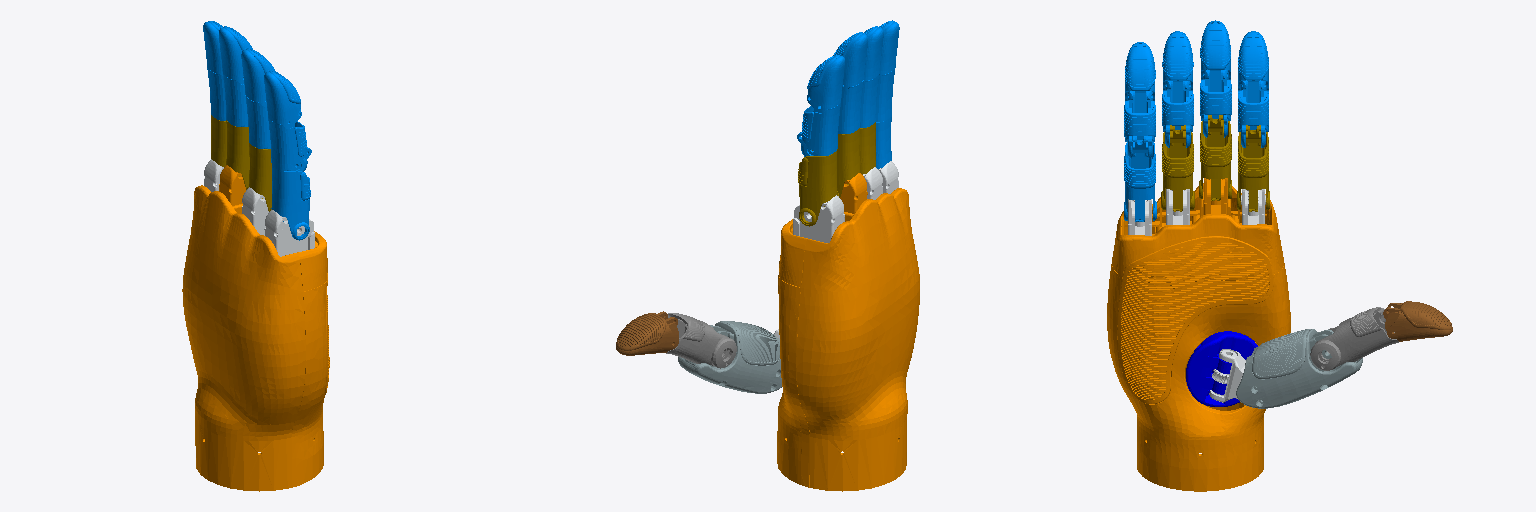
--- Render facts (derived) ---
3 views of the same robot in one strip: view 1: azimuth 30°, elevation 25°; view 2: azimuth 150°, elevation 25°; view 3: azimuth 270°, elevation 25° (orthographic).
Model linkerhand_l10_7_right.urdf with 21 links and 20 joints (20 revolute), rooted at hand_base_link, posed every joint at zero.
Visible links, largest first — view 1: hand_base_link, pinky_proximal, pinky_middle, pinky_distal, pinky_metacarpals, ring_distal, middle_distal, ring_proximal, middle_proximal, middle_middle, ring_middle, ring_metacarpals (+3 smaller); view 2: hand_base_link, thumb_metacarpals, thumb_proximal, thumb_distal, index_proximal, index_middle, index_distal, index_metacarpals, middle_distal, middle_proximal, middle_middle, pinky_distal (+5 smaller); view 3: hand_base_link, thumb_metacarpals, thumb_proximal, thumb_metacarpals_base1, thumb_distal, ring_proximal, pinky_proximal, middle_proximal, index_proximal, pinky_middle, middle_middle, index_middle (+9 smaller).
Boxes of the visible links, left/top/right/bottom form: hand_base_link: left=182, top=165, right=329, bottom=491; pinky_proximal: left=271, top=164, right=310, bottom=240; pinky_middle: left=268, top=118, right=311, bottom=171; pinky_distal: left=264, top=71, right=301, bottom=128; pinky_metacarpals: left=264, top=210, right=314, bottom=256; ring_distal: left=241, top=48, right=275, bottom=106; middle_distal: left=219, top=26, right=252, bottom=84; ring_proximal: left=249, top=143, right=271, bottom=211; middle_proximal: left=226, top=120, right=249, bottom=189; middle_middle: left=223, top=74, right=247, bottom=126; ring_middle: left=245, top=95, right=270, bottom=148; ring_metacarpals: left=242, top=187, right=268, bottom=235; hand_base_link: left=777, top=173, right=919, bottom=491; thumb_metacarpals: left=678, top=321, right=781, bottom=393; thumb_proximal: left=666, top=313, right=736, bottom=368; thumb_distal: left=616, top=311, right=678, bottom=355; index_proximal: left=798, top=149, right=837, bottom=226; index_middle: left=797, top=103, right=840, bottom=156; index_distal: left=807, top=55, right=844, bottom=112; index_metacarpals: left=793, top=195, right=844, bottom=242; middle_distal: left=833, top=32, right=867, bottom=90; middle_proximal: left=837, top=128, right=860, bottom=197; middle_middle: left=838, top=80, right=863, bottom=133; pinky_distal: left=879, top=20, right=899, bottom=76; hand_base_link: left=1107, top=178, right=1290, bottom=491; thumb_metacarpals: left=1236, top=329, right=1362, bottom=408; thumb_proximal: left=1310, top=307, right=1398, bottom=370; thumb_metacarpals_base1: left=1186, top=331, right=1257, bottom=406; thumb_distal: left=1383, top=301, right=1452, bottom=341; ring_proximal: left=1161, top=125, right=1194, bottom=211; pinky_proximal: left=1124, top=136, right=1156, bottom=221; middle_proximal: left=1199, top=115, right=1231, bottom=200; index_proximal: left=1237, top=125, right=1269, bottom=211; pinky_middle: left=1124, top=91, right=1155, bottom=158; middle_middle: left=1200, top=70, right=1231, bottom=137; index_middle: left=1238, top=80, right=1268, bottom=147.
Bounding box of the posed robot: 0.0906 × 0.1742 × 0.2403 m (x, y, z).
Meshes: 21 distinct files referenced, 21 mesh visuals loaded (21 binary STL).

The robot description file, URDF, robot "linkerhand_l10_7_right.urdf":
<?xml version="1.0" encoding="utf-8"?>
<!-- This URDF was automatically created by SolidWorks to URDF Exporter! Originally created by Stephen Brawner ([email redacted]) 
     Commit Version: 1.6.0-4-g7f85cfe  Build Version: 1.6.7995.38578
     For more information, please see http://wiki.ros.org/sw_urdf_exporter -->
<robot
  name="linkerhand_l10_7_right.urdf">
  <link
    name="hand_base_link">
    <inertial>
      <origin
        xyz="-0.00378572993474923 -0.000415839048931058 0.0836392883613671"
        rpy="0 0 0" />
      <mass
        value="0.10884427610512" />
      <inertia
        ixx="0.00019345483956042"
        ixy="1.28842682703635E-06"
        ixz="1.97005632028112E-07"
        iyy="0.000129793182936336"
        iyz="-2.34961034039841E-06"
        izz="7.75126657491835E-05" />
    </inertial>
    <visual>
      <origin
        xyz="0 0 0"
        rpy="0 0 0" />
      <geometry>
        <mesh
          filename="meshes/hand_base_link.STL" />
      </geometry>
      <material
        name="">
        <color
          rgba="1 0.6 0 1" />
      </material>
    </visual>
    <collision>
      <origin
        xyz="0 0 0"
        rpy="0 0 0" />
      <geometry>
        <mesh
          filename="meshes/hand_base_link.STL" />
      </geometry>
    </collision>
  </link>
  <link
    name="thumb_metacarpals_base1">
    <inertial>
      <origin
        xyz="0.0284774593036823 -0.00319295610820959 0.000288698025133524"
        rpy="0 0 0" />
      <mass
        value="0.0084581719416891" />
      <inertia
        ixx="1.40261950876138E-06"
        ixy="1.18207329998214E-07"
        ixz="-1.77710409325651E-08"
        iyy="9.82563824235415E-07"
        iyz="-6.88503841796069E-08"
        izz="7.36195207923163E-07" />
    </inertial>
    <visual>
      <origin
        xyz="0 0 0"
        rpy="0 0 0" />
      <geometry>
        <mesh
          filename="meshes/thumb_metacarpals_base1.STL" />
      </geometry>
      <material
        name="">
        <color
          rgba="0 0 1 1" />
      </material>
    </visual>
    <collision>
      <origin
        xyz="0 0 0"
        rpy="0 0 0" />
      <geometry>
        <mesh
          filename="meshes/thumb_metacarpals_base1.STL" />
      </geometry>
    </collision>
  </link>
  <joint
    name="thumb_cmc_roll"
    type="revolute">
    <origin
      xyz="-0.013419 0.012551 0.060602"
      rpy="0 0 0" />
    <parent
      link="hand_base_link" />
    <child
      link="thumb_metacarpals_base1" />
    <axis
      xyz="0.99996 0 -0.0087265" />
    <limit
      lower="0"
      upper="1.1339"
      effort="100"
      velocity="1" />
  </joint>
  <link
    name="thumb_metacarpals_base2">
    <inertial>
      <origin
        xyz="0.00215248483593253 0.00687960824638228 -0.00178648738539141"
        rpy="0 0 0" />
      <mass
        value="0.00582710536801184" />
      <inertia
        ixx="3.1580508435925E-07"
        ixy="-1.2523312776122E-08"
        ixz="7.34627751822501E-09"
        iyy="2.74551538715439E-07"
        iyz="-1.11420623852877E-08"
        izz="1.7708647486189E-07" />
    </inertial>
    <visual>
      <origin
        xyz="0 0 0"
        rpy="0 0 0" />
      <geometry>
        <mesh
          filename="meshes/thumb_metacarpals_base2.STL" />
      </geometry>
      <material
        name="">
        <color
          rgba="0.898039215686275 0.917647058823529 0.929411764705882 1" />
      </material>
    </visual>
    <collision>
      <origin
        xyz="0 0 0"
        rpy="0 0 0" />
      <geometry>
        <mesh
          filename="meshes/thumb_metacarpals_base2.STL" />
      </geometry>
    </collision>
  </link>
  <joint
    name="thumb_cmc_yaw"
    type="revolute">
    <origin
      xyz="0.035797 -0.00065879 0.00045944"
      rpy="0 0 0" />
    <parent
      link="thumb_metacarpals_base1" />
    <child
      link="thumb_metacarpals_base2" />
    <axis
      xyz="0.008517 -0.21782 -0.97595" />
    <limit
      lower="0"
      upper="1.9189"
      effort="100"
      velocity="0" />
  </joint>
  <link
    name="thumb_metacarpals">
    <inertial>
      <origin
        xyz="0.00183661834550107 -2.80742940476572E-06 0.0269905020099197"
        rpy="0 0 0" />
      <mass
        value="0.0152011697874328" />
      <inertia
        ixx="2.95370119498705E-06"
        ixy="5.98576599418973E-11"
        ixz="1.58078022444628E-07"
        iyy="3.84770651487058E-06"
        iyz="4.18316149481869E-10"
        izz="1.32007495243356E-06" />
    </inertial>
    <visual>
      <origin
        xyz="0 0 0"
        rpy="0 0 0" />
      <geometry>
        <mesh
          filename="meshes/thumb_metacarpals.STL" />
      </geometry>
      <material
        name="">
        <color
          rgba="0.592156862745098 0.666666666666667 0.682352941176471 1" />
      </material>
    </visual>
    <collision>
      <origin
        xyz="0 0 0"
        rpy="0 0 0" />
      <geometry>
        <mesh
          filename="meshes/thumb_metacarpals.STL" />
      </geometry>
    </collision>
  </link>
  <joint
    name="thumb_cmc_pitch"
    type="revolute">
    <origin
      xyz="0.0046051 0.014383 -0.0051478"
      rpy="0.16356 -1.1191 -2.0038" />
    <parent
      link="thumb_metacarpals_base2" />
    <child
      link="thumb_metacarpals" />
    <axis
      xyz="0 1 0" />
    <limit
      lower="0"
      upper="0.5146"
      effort="100"
      velocity="1" />
  </joint>
  <link
    name="thumb_proximal">
    <inertial>
      <origin
        xyz="0.00159270226880857 -4.4335770623613E-06 0.0151573535592338"
        rpy="0 0 0" />
      <mass
        value="0.00662230120907192" />
      <inertia
        ixx="1.01526965693255E-06"
        ixy="-3.40889077339227E-12"
        ixz="4.4224333375416E-08"
        iyy="9.10433196570128E-07"
        iyz="2.59867251981586E-11"
        izz="4.4746314468008E-07" />
    </inertial>
    <visual>
      <origin
        xyz="0 0 0"
        rpy="0 0 0" />
      <geometry>
        <mesh
          filename="meshes/thumb_proximal.STL" />
      </geometry>
      <material
        name="">
        <color
          rgba="0.6 0.6 0.6 1" />
      </material>
    </visual>
    <collision>
      <origin
        xyz="0 0 0"
        rpy="0 0 0" />
      <geometry>
        <mesh
          filename="meshes/thumb_proximal.STL" />
      </geometry>
    </collision>
  </link>
  <joint
    name="thumb_mcp"
    type="revolute">
    <origin
      xyz="0.0061722 0 0.047968"
      rpy="0 0 0" />
    <parent
      link="thumb_metacarpals" />
    <child
      link="thumb_proximal" />
    <axis
      xyz="0 1 0" />
    <limit
      lower="0"
      upper="0.7152"
      effort="100"
      velocity="1" />
    <mimic
      joint="thumb_cmc_pitch"
      multiplier="1.3898"
      offset="0" />
  </joint>
  <link
    name="thumb_distal">
    <inertial>
      <origin
        xyz="-0.00138919652929166 1.66654390589688E-06 0.0115790399688877"
        rpy="0 0 0" />
      <mass
        value="0.00512933613321634" />
      <inertia
        ixx="3.30969722600772E-07"
        ixy="-3.44780214263253E-10"
        ixz="1.04733139974397E-07"
        iyy="3.23809589950991E-07"
        iyz="-8.21573772773073E-11"
        izz="2.489052525811E-07" />
    </inertial>
    <visual>
      <origin
        xyz="0 0 0"
        rpy="0 0 0" />
      <geometry>
        <mesh
          filename="meshes/thumb_distal.STL" />
      </geometry>
      <material
        name="">
        <color
          rgba="0.6 0.4 0.2 1" />
      </material>
    </visual>
    <collision>
      <origin
        xyz="0 0 0"
        rpy="0 0 0" />
      <geometry>
        <mesh
          filename="meshes/thumb_distal.STL" />
      </geometry>
    </collision>
  </link>
  <joint
    name="thumb_ip"
    type="revolute">
    <origin
      xyz="-0.00017064 0 0.038665"
      rpy="0 0 0" />
    <parent
      link="thumb_proximal" />
    <child
      link="thumb_distal" />
    <axis
      xyz="0 1 0" />
    <limit
      lower="0"
      upper="0.7763"
      effort="100"
      velocity="1" />
    <mimic
      joint="thumb_cmc_pitch"
      multiplier="1.508"
      offset="0" />
  </joint>
  <link
    name="index_metacarpals">
    <inertial>
      <origin
        xyz="-0.000473392019250098 -6.96702861594997E-07 0.00909067743061448"
        rpy="0 0 0" />
      <mass
        value="0.00903700347459462" />
      <inertia
        ixx="4.90035722472611E-07"
        ixy="3.89143802263231E-11"
        ixz="-2.78580197566548E-08"
        iyy="7.37380420538667E-07"
        iyz="6.37050140815271E-11"
        izz="5.52381285093451E-07" />
    </inertial>
    <visual>
      <origin
        xyz="0 0 0"
        rpy="0 0 0" />
      <geometry>
        <mesh
          filename="meshes/index_metacarpals.STL" />
      </geometry>
      <material
        name="">
        <color
          rgba="0.898039215686275 0.917647058823529 0.929411764705882 1" />
      </material>
    </visual>
    <collision>
      <origin
        xyz="0 0 0"
        rpy="0 0 0" />
      <geometry>
        <mesh
          filename="meshes/index_metacarpals.STL" />
      </geometry>
    </collision>
  </link>
  <joint
    name="index_mcp_roll"
    type="revolute">
    <origin
      xyz="-0.0021643 0.026654 0.13253"
      rpy="0 0 0" />
    <parent
      link="hand_base_link" />
    <child
      link="index_metacarpals" />
    <axis
      xyz="-0.99996 0 0.0087265" />
    <limit
      lower="0"
      upper="0.2181"
      effort="100"
      velocity="1" />
  </joint>
  <link
    name="index_proximal">
    <inertial>
      <origin
        xyz="-0.000221409784741484 1.17214413283134E-06 0.0104801609243648"
        rpy="0 0 0" />
      <mass
        value="0.00654982479821771" />
      <inertia
        ixx="4.43447817415824E-07"
        ixy="-2.69774925527114E-12"
        ixz="2.71645765576885E-08"
        iyy="4.58697755319572E-07"
        iyz="-8.52649515921746E-11"
        izz="1.7465947341041E-07" />
    </inertial>
    <visual>
      <origin
        xyz="0 0 0"
        rpy="0 0 0" />
      <geometry>
        <mesh
          filename="meshes/index_proximal.STL" />
      </geometry>
      <material
        name="">
        <color
          rgba="0.647058823529412 0.517647058823529 0 1" />
      </material>
    </visual>
    <collision>
      <origin
        xyz="0 0 0"
        rpy="0 0 0" />
      <geometry>
        <mesh
          filename="meshes/index_proximal.STL" />
      </geometry>
    </collision>
  </link>
  <joint
    name="index_mcp_pitch"
    type="revolute">
    <origin
      xyz="0.0020763 0 0.015294"
      rpy="0 0 0" />
    <parent
      link="index_metacarpals" />
    <child
      link="index_proximal" />
    <axis
      xyz="0 1 0" />
    <limit
      lower="0"
      upper="1.3607"
      effort="100"
      velocity="1" />
  </joint>
  <link
    name="index_middle">
    <inertial>
      <origin
        xyz="-0.00259932519148708 -2.09526073980532E-06 0.0110174765184068"
        rpy="0 0 0" />
      <mass
        value="0.00283043635595588" />
      <inertia
        ixx="2.60328472325947E-07"
        ixy="5.7907596345584E-11"
        ixz="4.11787064047029E-08"
        iyy="2.33077669786127E-07"
        iyz="-2.91977981203693E-11"
        izz="1.27252395425434E-07" />
    </inertial>
    <visual>
      <origin
        xyz="0 0 0"
        rpy="0 0 0" />
      <geometry>
        <mesh
          filename="meshes/index_middle.STL" />
      </geometry>
      <material
        name="">
        <color
          rgba="0 0.6 1 1" />
      </material>
    </visual>
    <collision>
      <origin
        xyz="0 0 0"
        rpy="0 0 0" />
      <geometry>
        <mesh
          filename="meshes/index_middle.STL" />
      </geometry>
    </collision>
  </link>
  <joint
    name="index_pip"
    type="revolute">
    <origin
      xyz="-0.0013807 0 0.035624"
      rpy="0 0 0" />
    <parent
      link="index_proximal" />
    <child
      link="index_middle" />
    <axis
      xyz="0 1 0" />
    <limit
      lower="0"
      upper="1.8317"
      effort="100"
      velocity="1" />
    <mimic
      joint="index_mcp_pitch"
      multiplier="1.3462"
      offset="0" />
  </joint>
  <link
    name="index_distal">
    <inertial>
      <origin
        xyz="-0.000710605319534495 5.23484329792434E-06 0.0121456668819466"
        rpy="0 0 0" />
      <mass
        value="0.00314458657125681" />
      <inertia
        ixx="1.63322109883219E-07"
        ixy="1.96094345230889E-11"
        ixz="4.33517104700554E-08"
        iyy="1.48366110942312E-07"
        iyz="-2.0277830463002E-10"
        izz="9.85575309385827E-08" />
    </inertial>
    <visual>
      <origin
        xyz="0 0 0"
        rpy="0 0 0" />
      <geometry>
        <mesh
          filename="meshes/index_distal.STL" />
      </geometry>
      <material
        name="">
        <color
          rgba="0 0.6 1 1" />
      </material>
    </visual>
    <collision>
      <origin
        xyz="0 0 0"
        rpy="0 0 0" />
      <geometry>
        <mesh
          filename="meshes/index_distal.STL" />
      </geometry>
    </collision>
  </link>
  <joint
    name="index_dip"
    type="revolute">
    <origin
      xyz="-0.0054686 0 0.025665"
      rpy="0 0 0" />
    <parent
      link="index_middle" />
    <child
      link="index_distal" />
    <axis
      xyz="0 1 0" />
    <limit
      lower="0"
      upper="1.8317"
      effort="100"
      velocity="1" />
    <mimic
      joint="index_mcp_pitch"
      multiplier="0.4616"
      offset="0" />
  </joint>
  <link
    name="middle_proximal">
    <inertial>
      <origin
        xyz="-0.000226219980586555 1.17216483217115E-06 0.0104800581470382"
        rpy="0 0 0" />
      <mass
        value="0.00654982478226948" />
      <inertia
        ixx="4.43422823045881E-07"
        ixy="-2.65801609336249E-12"
        ixz="2.72879331079687E-08"
        iyy="4.58697754707372E-07"
        iyz="-8.52654749041276E-11"
        izz="1.746844667607E-07" />
    </inertial>
    <visual>
      <origin
        xyz="0 0 0"
        rpy="0 0 0" />
      <geometry>
        <mesh
          filename="meshes/middle_proximal.STL" />
      </geometry>
      <material
        name="">
        <color
          rgba="0.647058823529412 0.517647058823529 0 1" />
      </material>
    </visual>
    <collision>
      <origin
        xyz="0 0 0"
        rpy="0 0 0" />
      <geometry>
        <mesh
          filename="meshes/middle_proximal.STL" />
      </geometry>
    </collision>
  </link>
  <joint
    name="middle_mcp_pitch"
    type="revolute">
    <origin
      xyz="-0.0021316 0.0076542 0.15281"
      rpy="0 0 0" />
    <parent
      link="hand_base_link" />
    <child
      link="middle_proximal" />
    <axis
      xyz="0 1 0" />
    <limit
      lower="0"
      upper="1.3607"
      effort="100"
      velocity="1" />
  </joint>
  <link
    name="middle_middle">
    <inertial>
      <origin
        xyz="-0.00261699473119732 -2.09526685195343E-06 0.0110132928110042"
        rpy="0 0 0" />
      <mass
        value="0.00283043635504843" />
      <inertia
        ixx="2.60196021834948E-07"
        ixy="5.79547865424082E-11"
        ixz="4.1391958359388E-08"
        iyy="2.33077669434872E-07"
        iyz="-2.91048412607941E-11"
        izz="1.27384845266404E-07" />
    </inertial>
    <visual>
      <origin
        xyz="0 0 0"
        rpy="0 0 0" />
      <geometry>
        <mesh
          filename="meshes/middle_middle.STL" />
      </geometry>
      <material
        name="">
        <color
          rgba="0 0.6 1 1" />
      </material>
    </visual>
    <collision>
      <origin
        xyz="0 0 0"
        rpy="0 0 0" />
      <geometry>
        <mesh
          filename="meshes/middle_middle.STL" />
      </geometry>
    </collision>
  </link>
  <joint
    name="middle_pip"
    type="revolute">
    <origin
      xyz="-0.001397 0 0.035623"
      rpy="0 0 0" />
    <parent
      link="middle_proximal" />
    <child
      link="middle_middle" />
    <axis
      xyz="0 1 0" />
    <limit
      lower="0"
      upper="1.8317"
      effort="100"
      velocity="1" />
    <mimic
      joint="middle_mcp_pitch"
      multiplier="1.3462"
      offset="0" />
  </joint>
  <link
    name="middle_distal">
    <inertial>
      <origin
        xyz="-0.000728492686368068 5.23463091207845E-06 0.0121446078355904"
        rpy="0 0 0" />
      <mass
        value="0.0031445865911477" />
      <inertia
        ixx="1.6319430020531E-07"
        ixy="1.99064061423831E-11"
        ixz="4.34469141575623E-08"
        iyy="1.48366133401933E-07"
        iyz="-2.0274172110168E-10"
        izz="9.86853634492536E-08" />
    </inertial>
    <visual>
      <origin
        xyz="0 0 0"
        rpy="0 0 0" />
      <geometry>
        <mesh
          filename="meshes/middle_distal.STL" />
      </geometry>
      <material
        name="">
        <color
          rgba="0 0.6 1 1" />
      </material>
    </visual>
    <collision>
      <origin
        xyz="0 0 0"
        rpy="0 0 0" />
      <geometry>
        <mesh
          filename="meshes/middle_distal.STL" />
      </geometry>
    </collision>
  </link>
  <joint
    name="middle_dip"
    type="revolute">
    <origin
      xyz="-0.0055098 0 0.025656"
      rpy="0 0 0" />
    <parent
      link="middle_middle" />
    <child
      link="middle_distal" />
    <axis
      xyz="0 1 0" />
    <limit
      lower="0"
      upper="0.628"
      effort="100"
      velocity="1" />
    <mimic
      joint="middle_mcp_pitch"
      multiplier="0.4616"
      offset="0" />
  </joint>
  <link
    name="ring_metacarpals">
    <inertial>
      <origin
        xyz="-0.000473392019250147 -6.96702861586324E-07 0.00909067743061451"
        rpy="0 0 0" />
      <mass
        value="0.00903700347459463" />
      <inertia
        ixx="4.90035722472612E-07"
        ixy="3.89143802227228E-11"
        ixz="-2.78580197566549E-08"
        iyy="7.37380420538669E-07"
        iyz="6.37050140810733E-11"
        izz="5.52381285093452E-07" />
    </inertial>
    <visual>
      <origin
        xyz="0 0 0"
        rpy="0 0 0" />
      <geometry>
        <mesh
          filename="meshes/ring_metacarpals.STL" />
      </geometry>
      <material
        name="">
        <color
          rgba="0.898039215686275 0.917647058823529 0.929411764705882 1" />
      </material>
    </visual>
    <collision>
      <origin
        xyz="0 0 0"
        rpy="0 0 0" />
      <geometry>
        <mesh
          filename="meshes/ring_metacarpals.STL" />
      </geometry>
    </collision>
  </link>
  <joint
    name="ring_mcp_roll"
    type="revolute">
    <origin
      xyz="-0.0021643 -0.011346 0.13253"
      rpy="0 0 0" />
    <parent
      link="hand_base_link" />
    <child
      link="ring_metacarpals" />
    <axis
      xyz="0.99996 0 0.0087265" />
    <limit
      lower="0"
      upper="0.2181"
      effort="100"
      velocity="1" />
  </joint>
  <link
    name="ring_proximal">
    <inertial>
      <origin
        xyz="-0.000221412177759527 1.17116513872681E-06 0.0104801549347171"
        rpy="0 0 0" />
      <mass
        value="0.00654982867950541" />
      <inertia
        ixx="4.43447863010516E-07"
        ixy="-2.73227024213763E-12"
        ixz="2.71645164102371E-08"
        iyy="4.58697895506594E-07"
        iyz="-8.52846225435011E-11"
        izz="1.74659590566364E-07" />
    </inertial>
    <visual>
      <origin
        xyz="0 0 0"
        rpy="0 0 0" />
      <geometry>
        <mesh
          filename="meshes/ring_proximal.STL" />
      </geometry>
      <material
        name="">
        <color
          rgba="0.647058823529412 0.517647058823529 0 1" />
      </material>
    </visual>
    <collision>
      <origin
        xyz="0 0 0"
        rpy="0 0 0" />
      <geometry>
        <mesh
          filename="meshes/ring_proximal.STL" />
      </geometry>
    </collision>
  </link>
  <joint
    name="ring_mcp_pitch"
    type="revolute">
    <origin
      xyz="0.0020763 0 0.015294"
      rpy="0 0 0" />
    <parent
      link="ring_metacarpals" />
    <child
      link="ring_proximal" />
    <axis
      xyz="0 1 0" />
    <limit
      lower="0"
      upper="1.3607"
      effort="100"
      velocity="1" />
  </joint>
  <link
    name="ring_middle">
    <inertial>
      <origin
        xyz="-0.00259932539169275 -2.09536925854445E-06 0.0110174765352322"
        rpy="0 0 0" />
      <mass
        value="0.00283043628669241" />
      <inertia
        ixx="2.6032847037415E-07"
        ixy="5.79104972037516E-11"
        ixz="4.11787063652271E-08"
        iyy="2.33077663802866E-07"
        iyz="-2.91978956610415E-11"
        izz="1.27252388488073E-07" />
    </inertial>
    <visual>
      <origin
        xyz="0 0 0"
        rpy="0 0 0" />
      <geometry>
        <mesh
          filename="meshes/ring_middle.STL" />
      </geometry>
      <material
        name="">
        <color
          rgba="0 0.6 1 1" />
      </material>
    </visual>
    <collision>
      <origin
        xyz="0 0 0"
        rpy="0 0 0" />
      <geometry>
        <mesh
          filename="meshes/ring_middle.STL" />
      </geometry>
    </collision>
  </link>
  <joint
    name="ring_pip"
    type="revolute">
    <origin
      xyz="-0.0013807 0 0.035624"
      rpy="0 0 0" />
    <parent
      link="ring_proximal" />
    <child
      link="ring_middle" />
    <axis
      xyz="0 1 0" />
    <limit
      lower="0"
      upper="1.8317"
      effort="100"
      velocity="1" />
    <mimic
      joint="ring_mcp_pitch"
      multiplier="1.3462"
      offset="0" />
  </joint>
  <link
    name="ring_distal">
    <inertial>
      <origin
        xyz="-0.000710605070655887 5.23486441320054E-06 0.0121456664241844"
        rpy="0 0 0" />
      <mass
        value="0.0031445863941225" />
      <inertia
        ixx="1.6332208655443E-07"
        ixy="1.96096284326007E-11"
        ixz="4.33517042915493E-08"
        iyy="1.48366090032445E-07"
        iyz="-2.02778843611257E-10"
        izz="9.85575241184011E-08" />
    </inertial>
    <visual>
      <origin
        xyz="0 0 0"
        rpy="0 0 0" />
      <geometry>
        <mesh
          filename="meshes/ring_distal.STL" />
      </geometry>
      <material
        name="">
        <color
          rgba="0 0.6 1 1" />
      </material>
    </visual>
    <collision>
      <origin
        xyz="0 0 0"
        rpy="0 0 0" />
      <geometry>
        <mesh
          filename="meshes/ring_distal.STL" />
      </geometry>
    </collision>
  </link>
  <joint
    name="ring_dip"
    type="revolute">
    <origin
      xyz="-0.0054686 0 0.025665"
      rpy="0 0 0" />
    <parent
      link="ring_middle" />
    <child
      link="ring_distal" />
    <axis
      xyz="0 1 0" />
    <limit
      lower="0"
      upper="0.628"
      effort="100"
      velocity="1" />
    <mimic
      joint="ring_mcp_pitch"
      multiplier="0.4616"
      offset="0" />
  </joint>
  <link
    name="pinky_metacarpals">
    <inertial>
      <origin
        xyz="-0.000473392019250103 -6.96702861589793E-07 0.00909067743061448"
        rpy="0 0 0" />
      <mass
        value="0.00903700347459465" />
      <inertia
        ixx="4.90035722472611E-07"
        ixy="3.89143802264643E-11"
        ixz="-2.78580197566552E-08"
        iyy="7.37380420538668E-07"
        iyz="6.37050140815369E-11"
        izz="5.52381285093452E-07" />
    </inertial>
    <visual>
      <origin
        xyz="0 0 0"
        rpy="0 0 0" />
      <geometry>
        <mesh
          filename="meshes/pinky_metacarpals.STL" />
      </geometry>
      <material
        name="">
        <color
          rgba="0.898039215686275 0.917647058823529 0.929411764705882 1" />
      </material>
    </visual>
    <collision>
      <origin
        xyz="0 0 0"
        rpy="0 0 0" />
      <geometry>
        <mesh
          filename="meshes/pinky_metacarpals.STL" />
      </geometry>
    </collision>
  </link>
  <joint
    name="pinky_mcp_roll"
    type="revolute">
    <origin
      xyz="-0.00012074 -0.030346 0.12755"
      rpy="0 0 0" />
    <parent
      link="hand_base_link" />
    <child
      link="pinky_metacarpals" />
    <axis
      xyz="0.99996 0 0.0087265" />
    <limit
      lower="0"
      upper="0.3489"
      effort="100"
      velocity="1" />
  </joint>
  <link
    name="pinky_proximal">
    <inertial>
      <origin
        xyz="-0.000221412258607754 1.17103683876935E-06 0.0104801532987067"
        rpy="0 0 0" />
      <mass
        value="0.00654982918810593" />
      <inertia
        ixx="4.43447910769094E-07"
        ixy="-2.73411126621624E-12"
        ixz="2.71644852567342E-08"
        iyy="4.58697939807031E-07"
        iyz="-8.52970212446317E-11"
        izz="1.74659590066949E-07" />
    </inertial>
    <visual>
      <origin
        xyz="0 0 0"
        rpy="0 0 0" />
      <geometry>
        <mesh
          filename="meshes/pinky_proximal.STL" />
      </geometry>
      <material
        name="">
        <color
          rgba="0 0.6 1 1" />
      </material>
    </visual>
    <collision>
      <origin
        xyz="0 0 0"
        rpy="0 0 0" />
      <geometry>
        <mesh
          filename="meshes/pinky_proximal.STL" />
      </geometry>
    </collision>
  </link>
  <joint
    name="pinky_mcp_pitch"
    type="revolute">
    <origin
      xyz="0.0020763 0 0.015294"
      rpy="0 0 0" />
    <parent
      link="pinky_metacarpals" />
    <child
      link="pinky_proximal" />
    <axis
      xyz="0 1 0" />
    <limit
      lower="0"
      upper="1.3607"
      effort="100"
      velocity="1" />
  </joint>
  <link
    name="pinky_middle">
    <inertial>
      <origin
        xyz="-0.002599325191487 -2.09526073984695E-06 0.0110174765184069"
        rpy="0 0 0" />
      <mass
        value="0.00283043635595589" />
      <inertia
        ixx="2.60328472325978E-07"
        ixy="5.7907596343404E-11"
        ixz="4.11787064048009E-08"
        iyy="2.33077669786026E-07"
        iyz="-2.91977981214484E-11"
        izz="1.27252395425297E-07" />
    </inertial>
    <visual>
      <origin
        xyz="0 0 0"
        rpy="0 0 0" />
      <geometry>
        <mesh
          filename="meshes/pinky_middle.STL" />
      </geometry>
      <material
        name="">
        <color
          rgba="0 0.6 1 1" />
      </material>
    </visual>
    <collision>
      <origin
        xyz="0 0 0"
        rpy="0 0 0" />
      <geometry>
        <mesh
          filename="meshes/pinky_middle.STL" />
      </geometry>
    </collision>
  </link>
  <joint
    name="pinky_pip"
    type="revolute">
    <origin
      xyz="-0.0013807 0 0.035624"
      rpy="0 0 0" />
    <parent
      link="pinky_proximal" />
    <child
      link="pinky_middle" />
    <axis
      xyz="0 1 0" />
    <limit
      lower="0"
      upper="1.8317"
      effort="100"
      velocity="1" />
    <mimic
      joint="pinky_mcp_pitch"
      multiplier="1.3462"
      offset="0" />
  </joint>
  <link
    name="pinky_distal">
    <inertial>
      <origin
        xyz="-0.000710605211329151 5.23471293070038E-06 0.0121456666744262"
        rpy="0 0 0" />
      <mass
        value="0.0031445864920905" />
      <inertia
        ixx="1.63322099233008E-07"
        ixy="1.96074242691561E-11"
        ixz="4.33517077122639E-08"
        iyy="1.48366101127732E-07"
        iyz="-2.02773897050006E-10"
        izz="9.85575276143507E-08" />
    </inertial>
    <visual>
      <origin
        xyz="0 0 0"
        rpy="0 0 0" />
      <geometry>
        <mesh
          filename="meshes/pinky_distal.STL" />
      </geometry>
      <material
        name="">
        <color
          rgba="0 0.6 1 1" />
      </material>
    </visual>
    <collision>
      <origin
        xyz="0 0 0"
        rpy="0 0 0" />
      <geometry>
        <mesh
          filename="meshes/pinky_distal.STL" />
      </geometry>
    </collision>
  </link>
  <joint
    name="pinky_dip"
    type="revolute">
    <origin
      xyz="-0.0054686 0 0.025665"
      rpy="0 0 0" />
    <parent
      link="pinky_middle" />
    <child
      link="pinky_distal" />
    <axis
      xyz="0 1 0" />
    <limit
      lower="0"
      upper="0.628"
      effort="100"
      velocity="1" />
    <mimic
      joint="pinky_mcp_pitch"
      multiplier="0.4616"
      offset="0" />
  </joint>
</robot>
